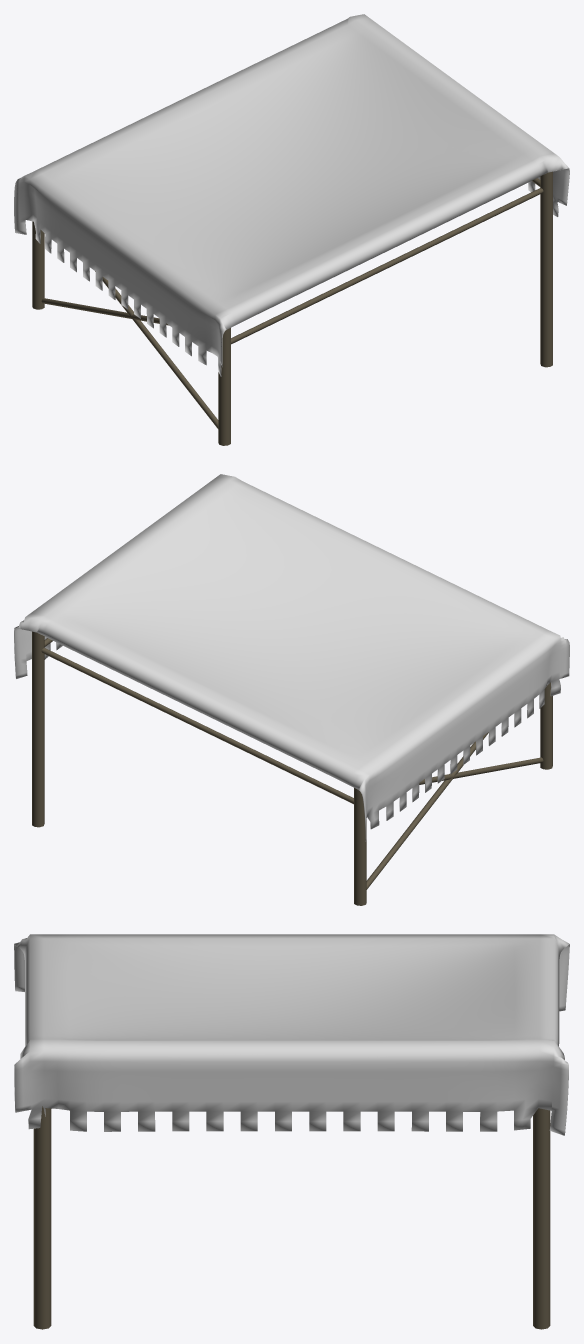
The model's file is Shop.fbx.
3 views of the same model, one above another, from view 1: azimuth 30°, elevation 25°; view 2: azimuth 150°, elevation 25°; view 3: azimuth 270°, elevation 25° (orthographic). The views are drawn at different scales.
Visible parts, largest first — view 1: Plane, Cube; view 2: Plane, Cube; view 3: Plane, Cube.
Boxes of the visible parts, <box> form: Plane: <box>14,14,569,376</box>; Cube: <box>32,171,552,445</box>; Plane: <box>14,474,569,841</box>; Cube: <box>32,631,552,905</box>; Plane: <box>14,934,569,1135</box>; Cube: <box>33,1106,550,1329</box>.
Size of the model in its own units: 625 by 356 by 639.
